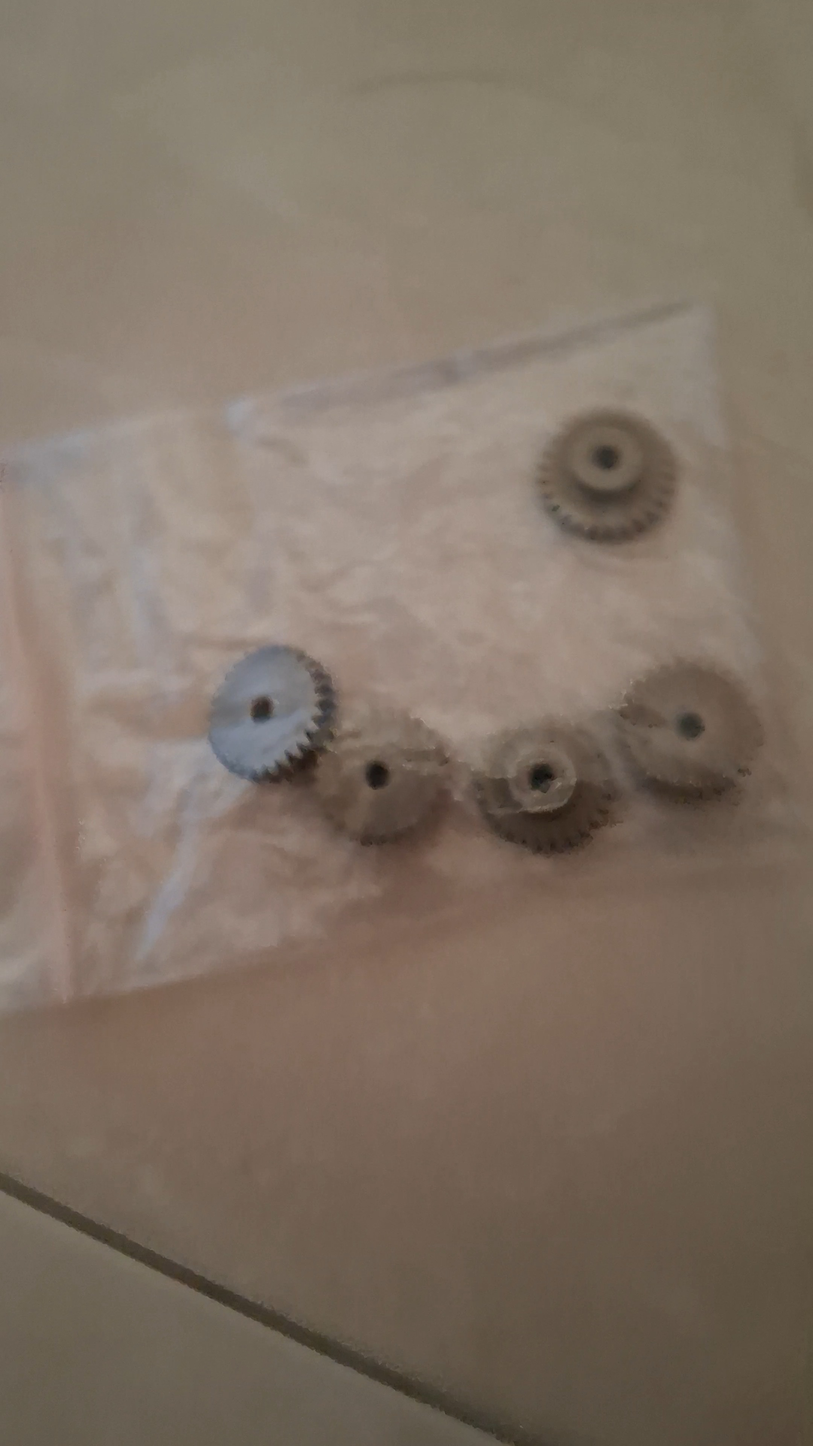spur gear: (618, 663, 762, 797), (474, 720, 614, 853), (539, 410, 677, 542), (314, 710, 448, 844), (209, 645, 335, 781)
